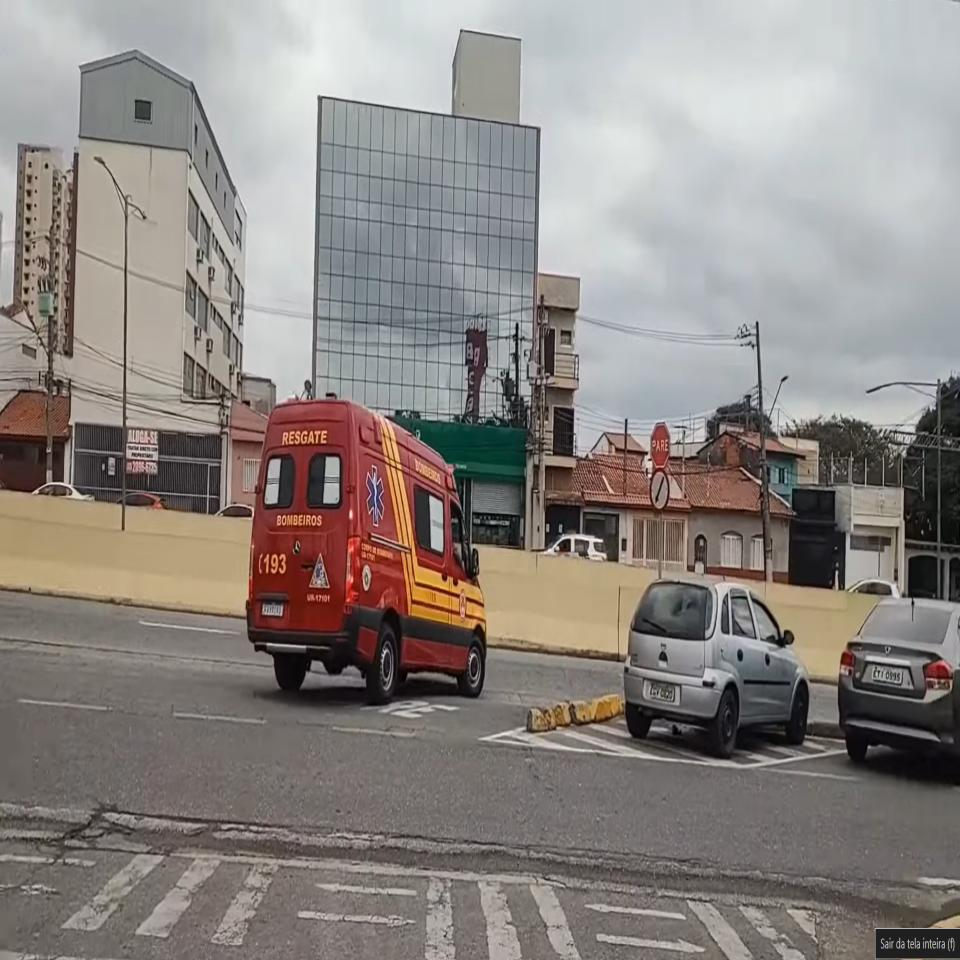viatura: (246, 390, 488, 699)
